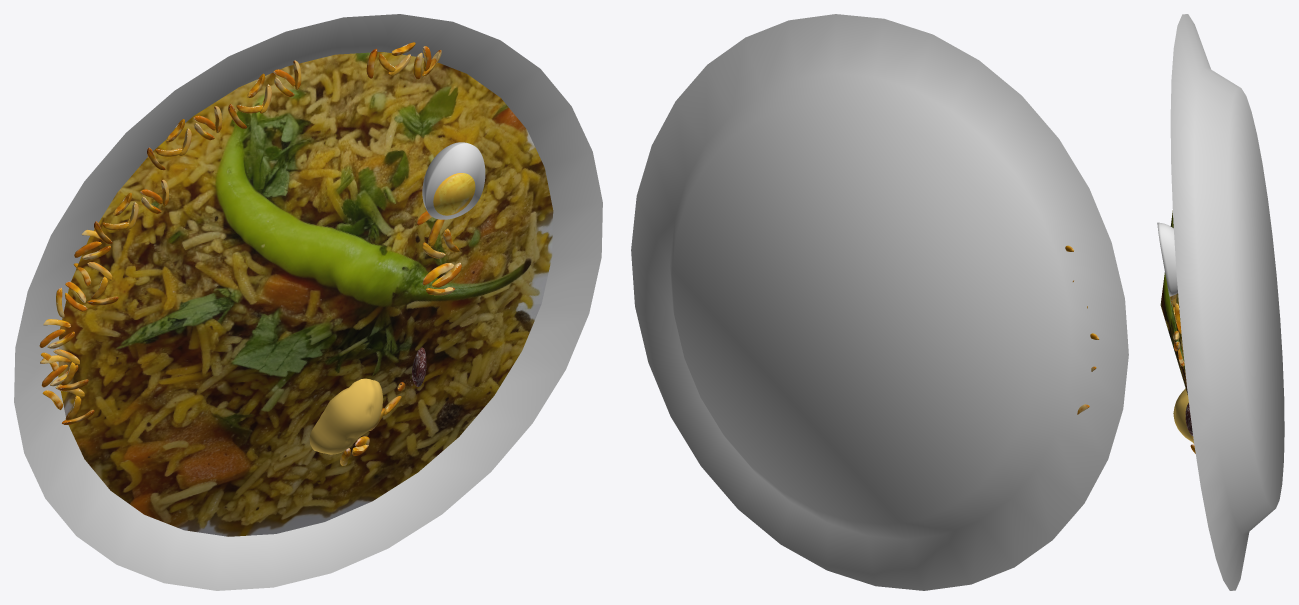
Rendered from vegbiryani.glb.
3 renders of one model, left to right at view 1: azimuth 30°, elevation 25°; view 2: azimuth 150°, elevation 25°; view 3: azimuth 270°, elevation 25°, orthographic. The views are drawn at different scales.
Parts seen in each view (by area): view 1: Cone, Circle.001, Sphere.002, Sphere.001, Plane.029, Plane.011, Plane.012, Plane.005, Plane.009, Plane.004, Plane.010, Plane.008; view 2: Circle.001; view 3: Circle.001, Sphere.002, Cone, Sphere.001, Plane.029.
Part boxes in pixels (x1,y1,x2,y2): Cone: (58,52,553,536); Circle.001: (14,14,602,590); Sphere.002: (422,142,485,219); Sphere.001: (309,378,383,454); Plane.029: (417,211,461,295); Plane.011: (228,60,301,128); Plane.012: (366,42,441,79); Plane.005: (39,319,88,390); Plane.009: (94,179,168,243); Plane.004: (40,355,94,424); Plane.010: (147,106,222,170); Plane.008: (73,229,118,305); Circle.001: (631,14,1128,590); Circle.001: (1170,14,1284,590); Sphere.002: (1157,222,1177,296); Cone: (1160,210,1187,394); Sphere.001: (1173,388,1193,443); Plane.029: (1170,294,1184,366).
Size of the model in its own units: 8.73 by 8.68 by 1.92.
16 materials, 13 textured.
